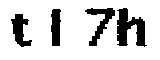7: (82, 6, 113, 49)
h: (117, 4, 148, 49)
l: (44, 5, 66, 52)
t: (7, 11, 36, 53)
